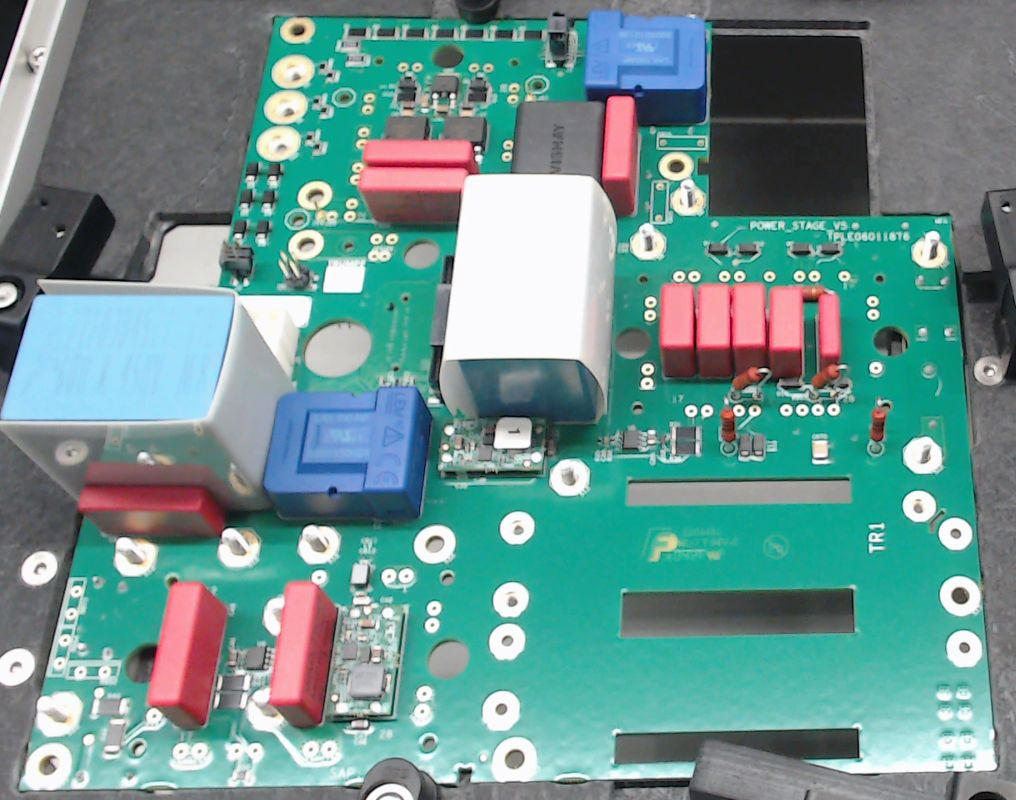comp1: (259, 384, 432, 520), (585, 11, 711, 121)
comp2: (146, 579, 224, 730), (268, 581, 338, 729), (74, 485, 228, 539), (358, 167, 467, 223), (600, 94, 639, 214), (763, 285, 807, 379), (658, 280, 696, 381), (361, 138, 477, 167), (732, 280, 766, 378), (699, 280, 732, 380), (815, 290, 843, 369)
comp3: (514, 99, 601, 180)
comp4: (3, 277, 299, 519), (438, 176, 617, 426)
